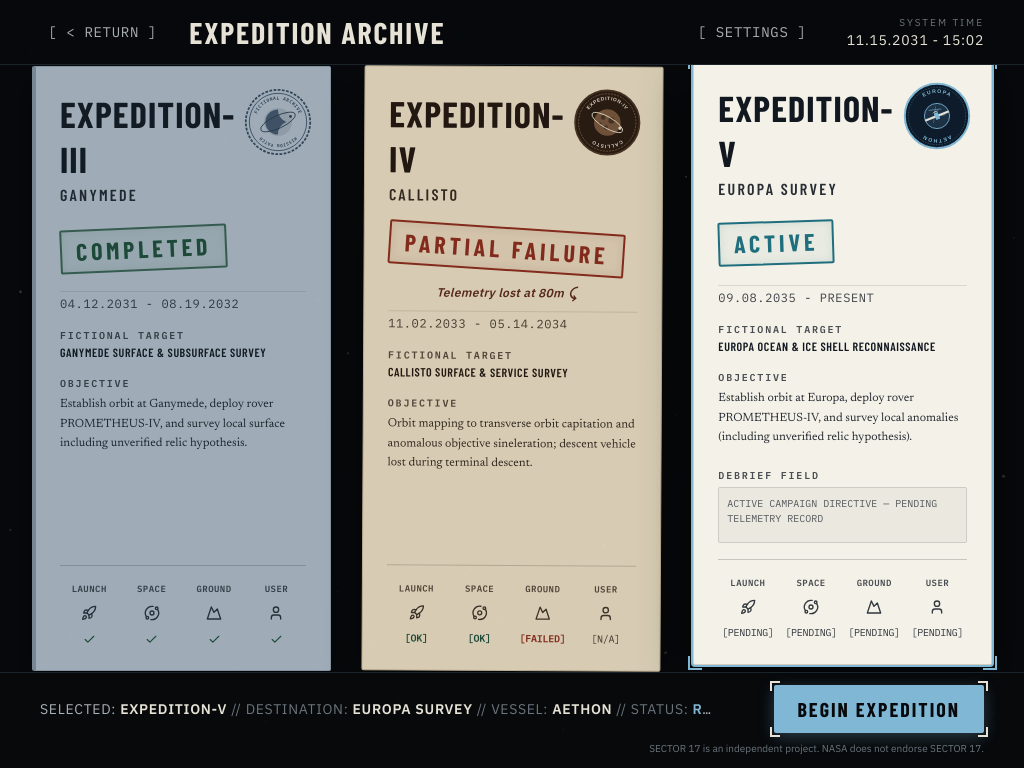
Scenario: Phase 7.3.2: Mission Selection — Expedition Archive › selecting a historical dossier updates footer and disables Begin Expedition
Later steps or results of the test are not shown.
Click on EXPEDITION-III
What coordinates should you click on to do the following:
click the heading "EXPEDITION-III"
I would click on:
 (148, 136)
Its box is [60,91,235,181].
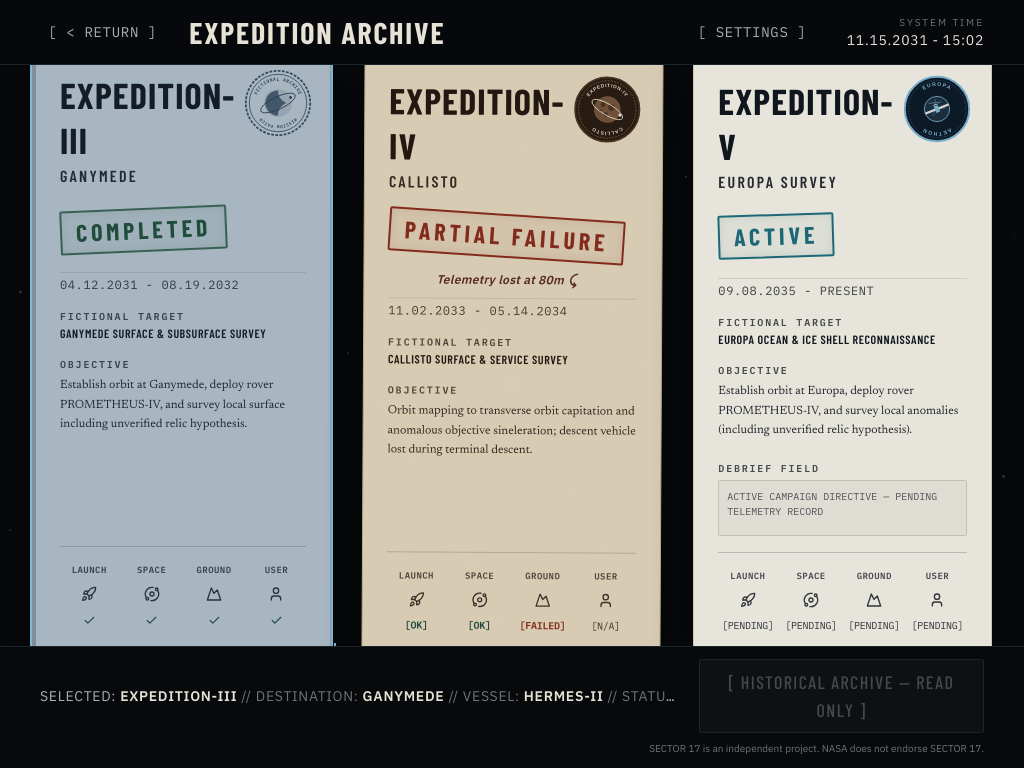
Expected: the text "HERMES-II" is shown, [524,687,604,705]
Expected: the button "[ HISTORICAL ARCHIVE — READ ONLY ]" is disabled, [699,659,984,733]
